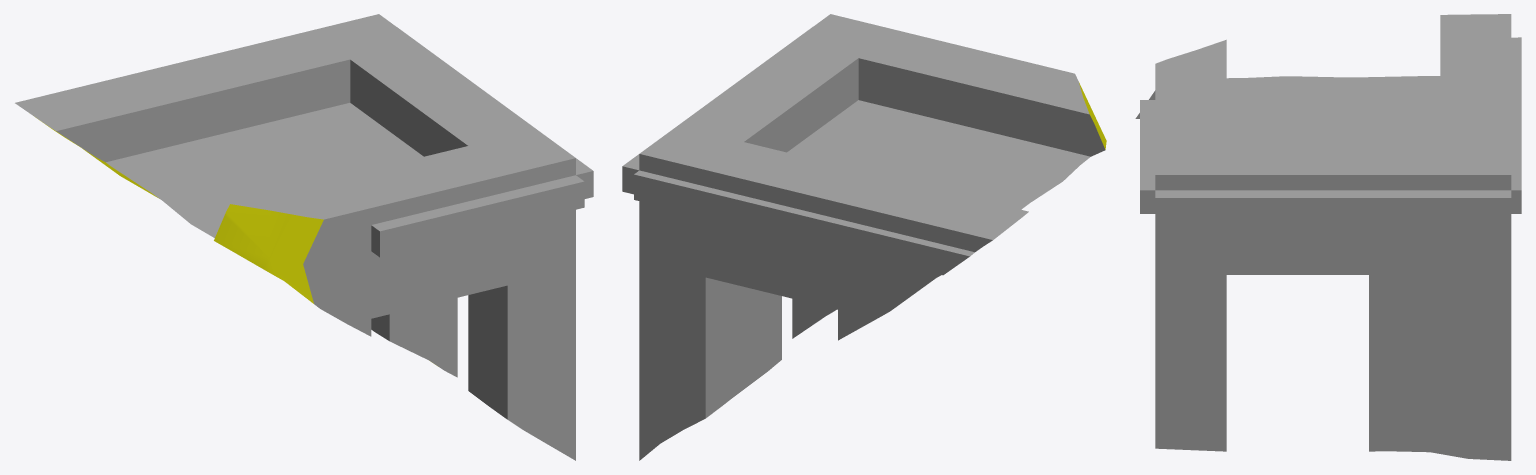
File: D_Shatter_01.fbx
3 renders of one model, left to right at view 1: azimuth 30°, elevation 25°; view 2: azimuth 150°, elevation 25°; view 3: azimuth 270°, elevation 25°, orthographic. The views are drawn at different scales.
Visible parts, largest first — view 1: shard2; view 2: shard2; view 3: shard2.
Part boxes in pixels (box(x1,y1,x2,y2)): shard2: box(15, 14, 593, 460); shard2: box(622, 14, 1106, 460); shard2: box(1135, 14, 1521, 460).
Size of the model in its own units: 5.09 by 4.03 by 4.93.
